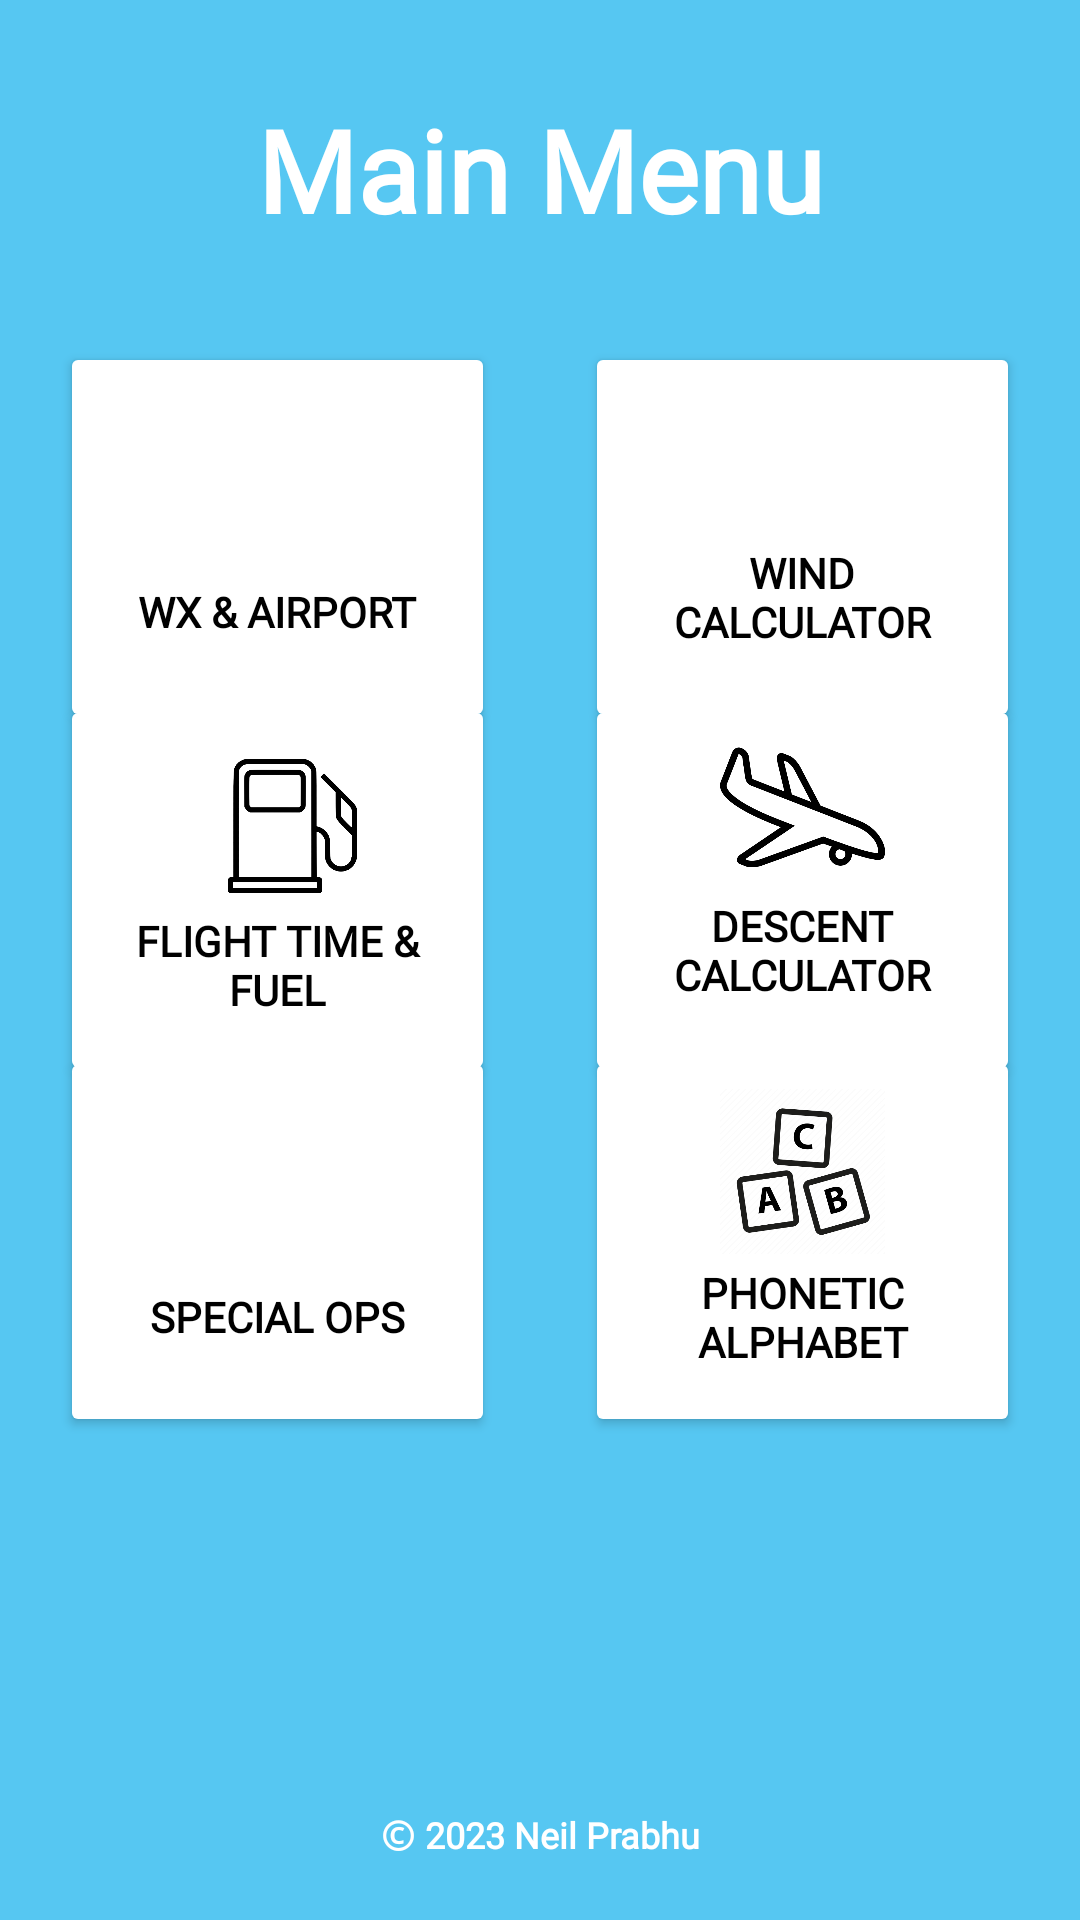

Named icons in this screenshot (1080px x 1920px) and their bounding boxes, (x1, y1, x2, y2):
fuelicon: (228, 759, 357, 893)
landingicon: (720, 747, 885, 867)
phoneticicon: (737, 1108, 870, 1235)
